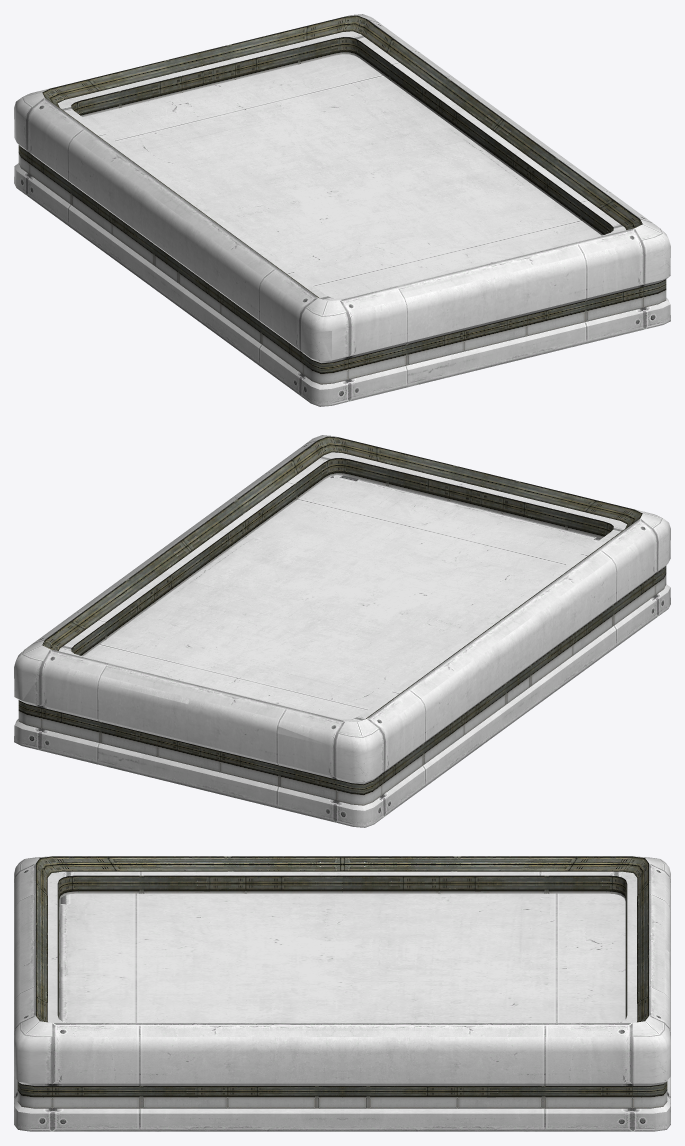
Rendered from Emb_PlanterBalc_4X6.FBX.
3 renders of one model, top to bottom at view 1: azimuth 30°, elevation 25°; view 2: azimuth 150°, elevation 25°; view 3: azimuth 270°, elevation 25°, orthographic. The views are drawn at different scales.
Visible parts, largest first — view 1: Emb_PlanterBalc_4X6; view 2: Emb_PlanterBalc_4X6; view 3: Emb_PlanterBalc_4X6.
Boxes of the visible parts, <box> form: Emb_PlanterBalc_4X6: <box>14,14,670,406</box>; Emb_PlanterBalc_4X6: <box>14,435,670,827</box>; Emb_PlanterBalc_4X6: <box>14,856,670,1131</box>.
Bounding box in the file's own units: 4 × 1 × 6.
